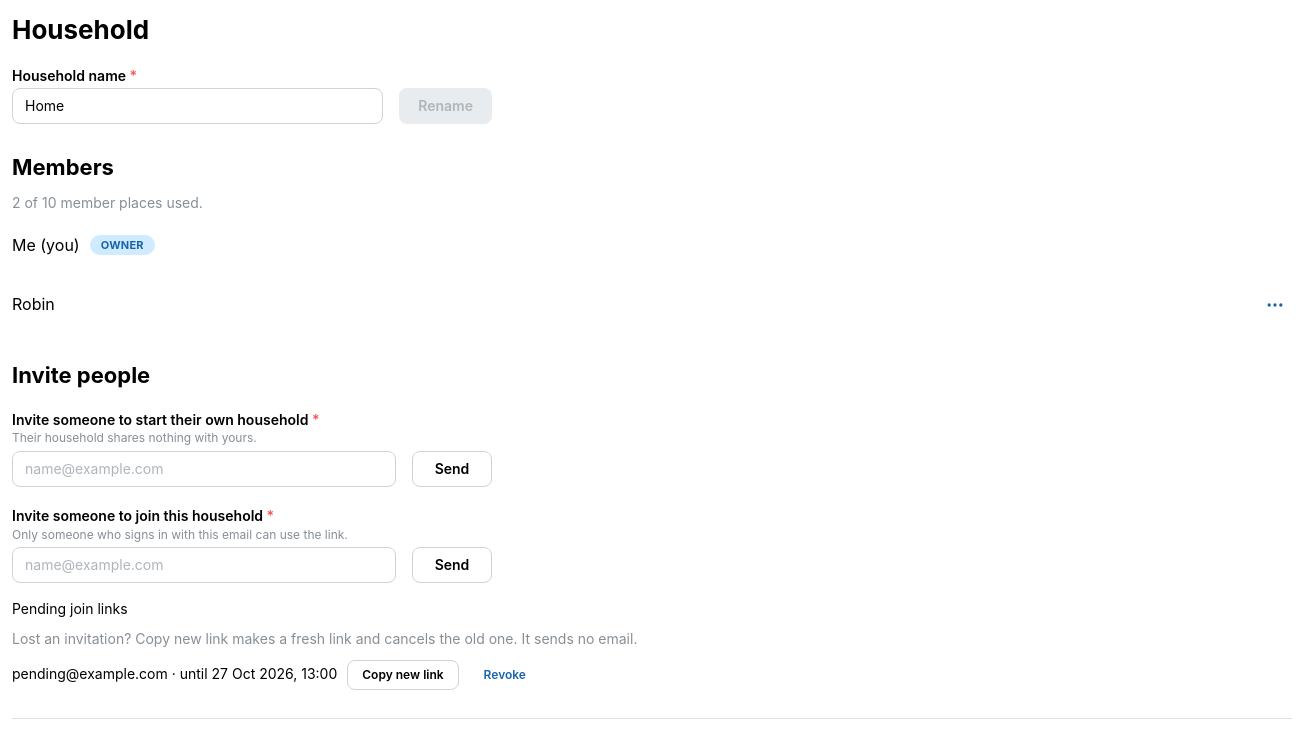
household settings section › gives an owner rename, make owner, join links and revoke
Expected: the text "Robin" is shown, [12, 292, 55, 317]
Replace the text in the field labelled "Household name *" with "New name". click: {"x": 198, "y": 106}
box: [12, 88, 383, 124]
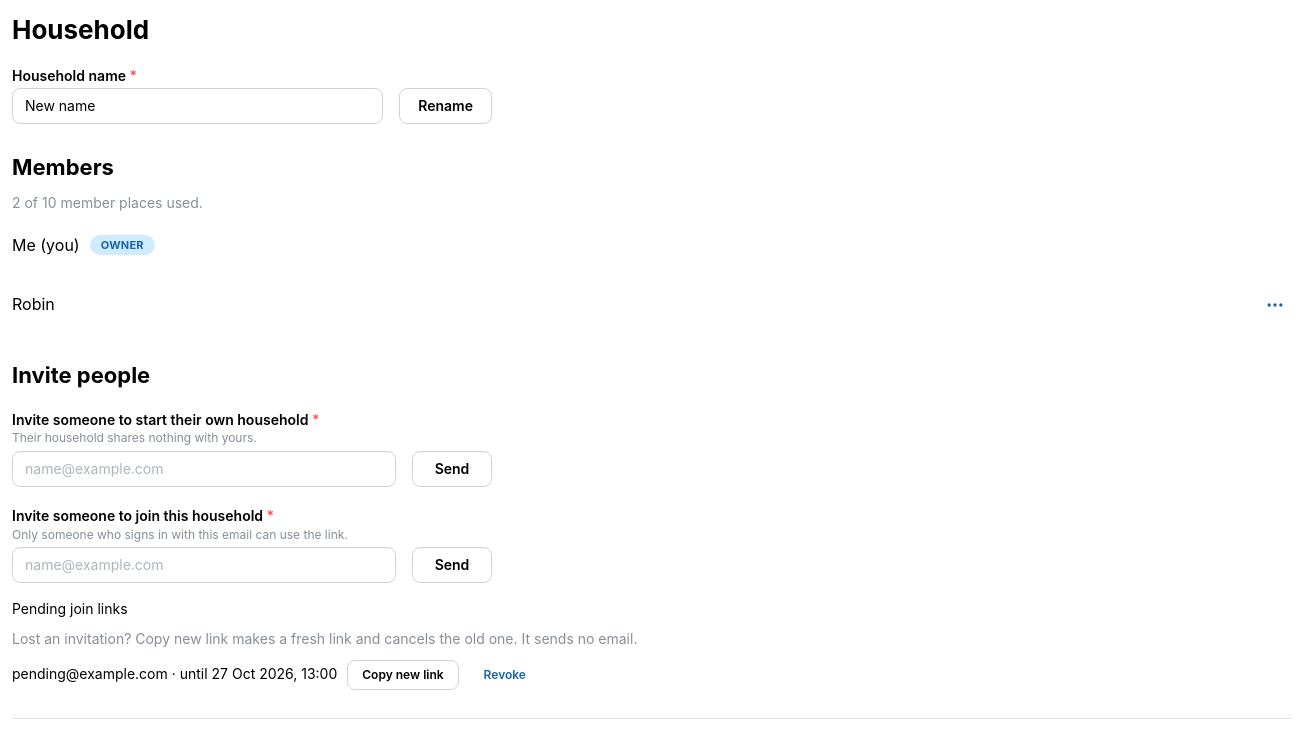
Click the button "Rename". click: {"x": 446, "y": 106}
box: [399, 88, 492, 124]
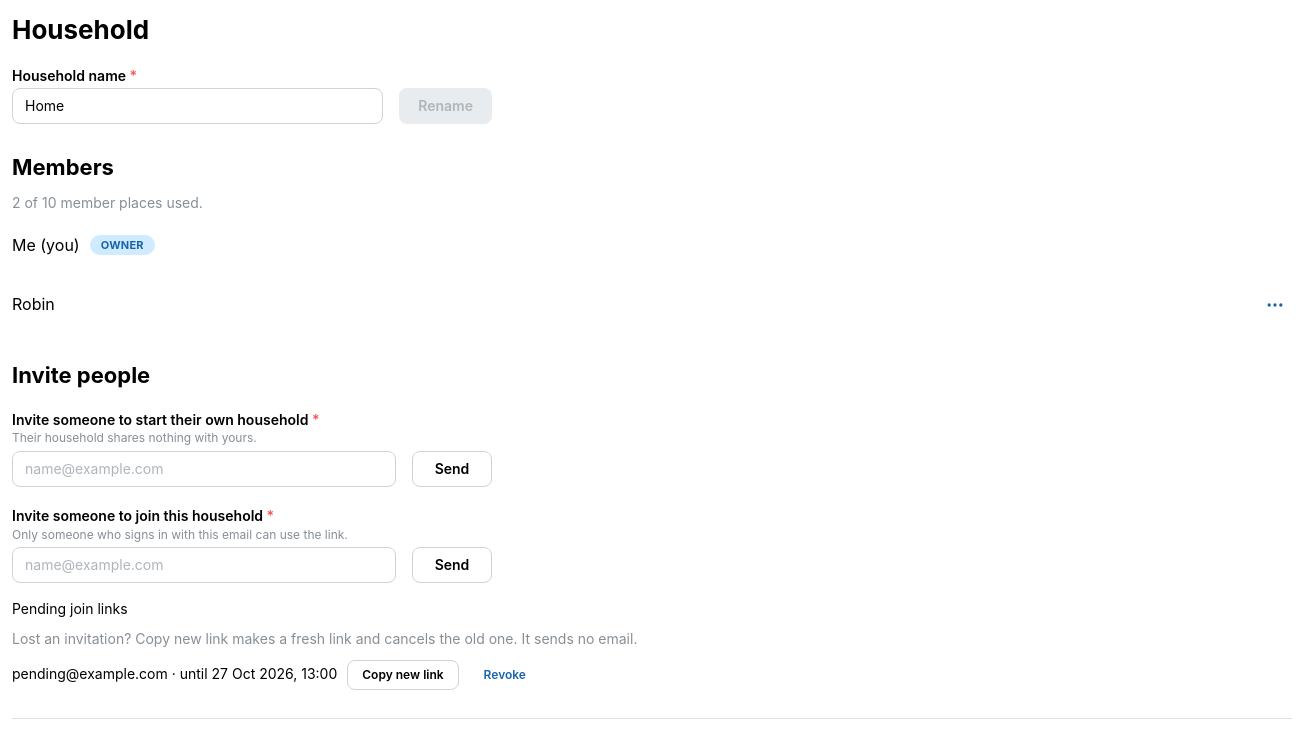
Click the button named "Actions for Robin". click: {"x": 1275, "y": 305}
box: [1258, 288, 1292, 322]
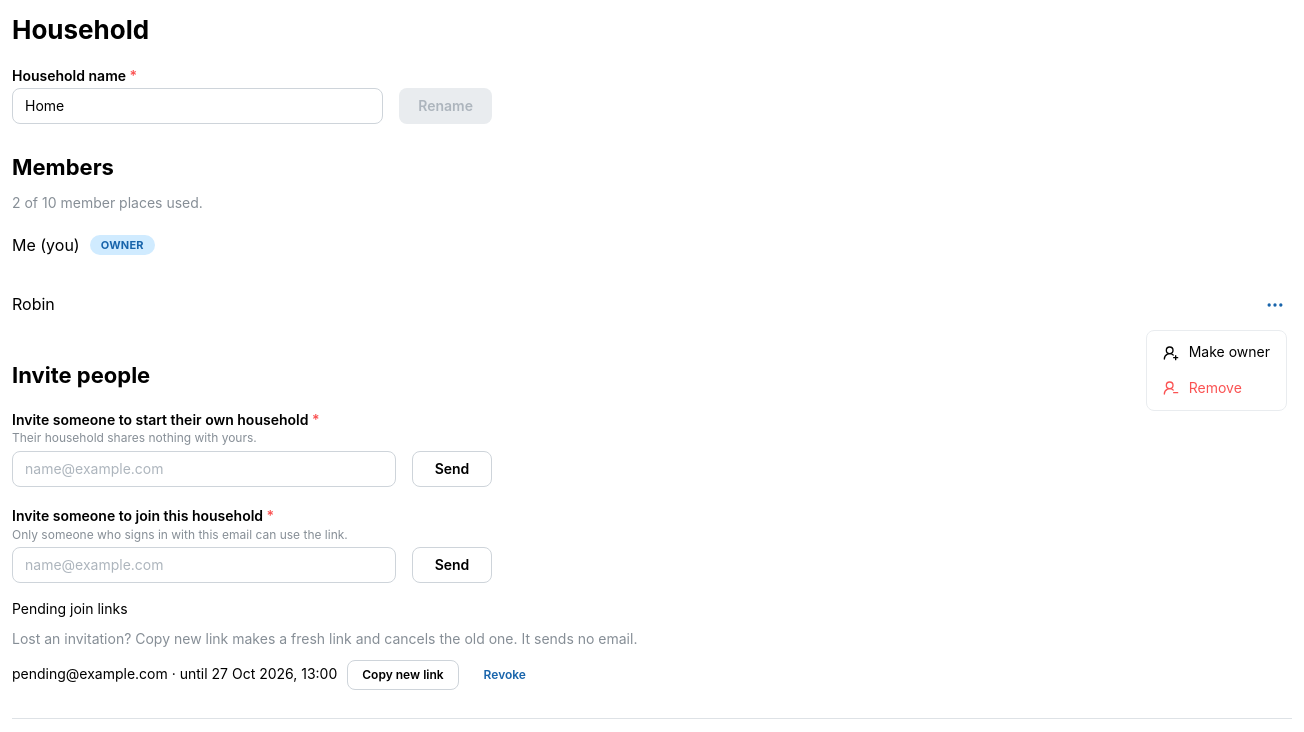
Click the menu item "Make owner". click: {"x": 1216, "y": 353}
box: [1151, 335, 1282, 370]
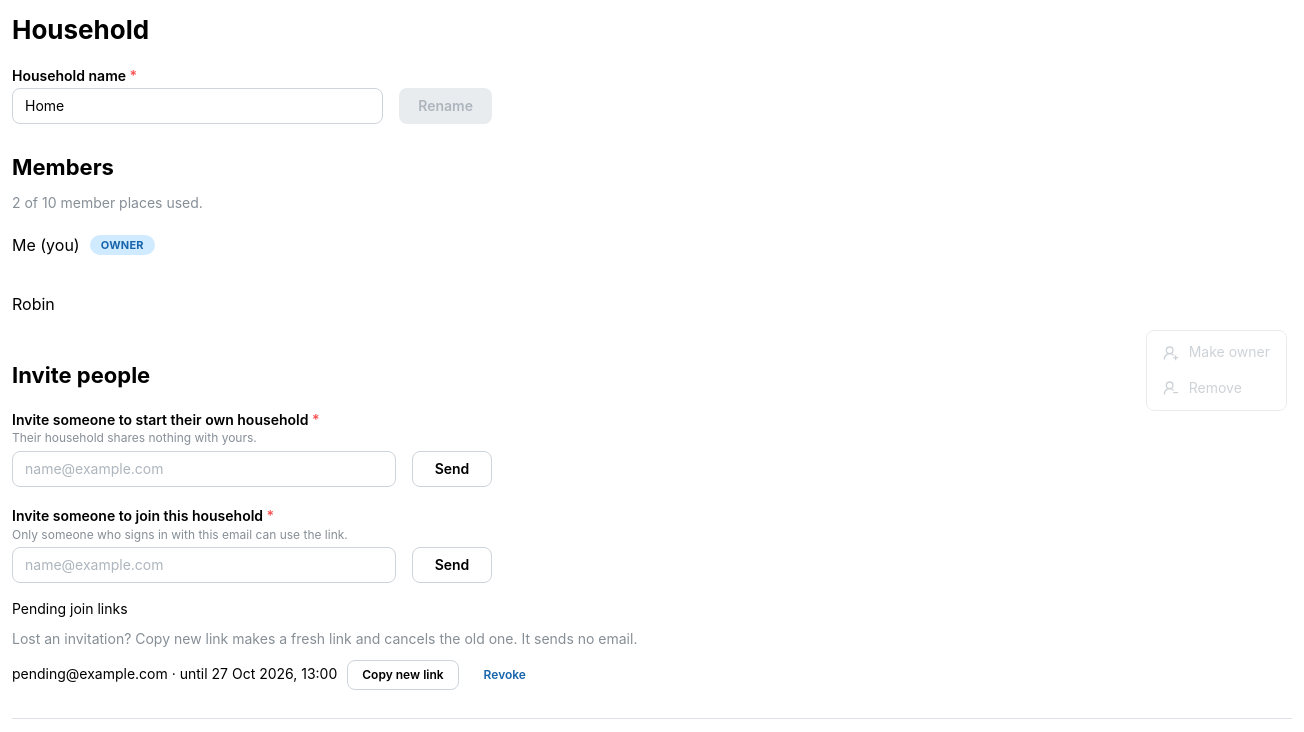
Click the button "Revoke". click: {"x": 505, "y": 674}
box: [469, 660, 541, 690]
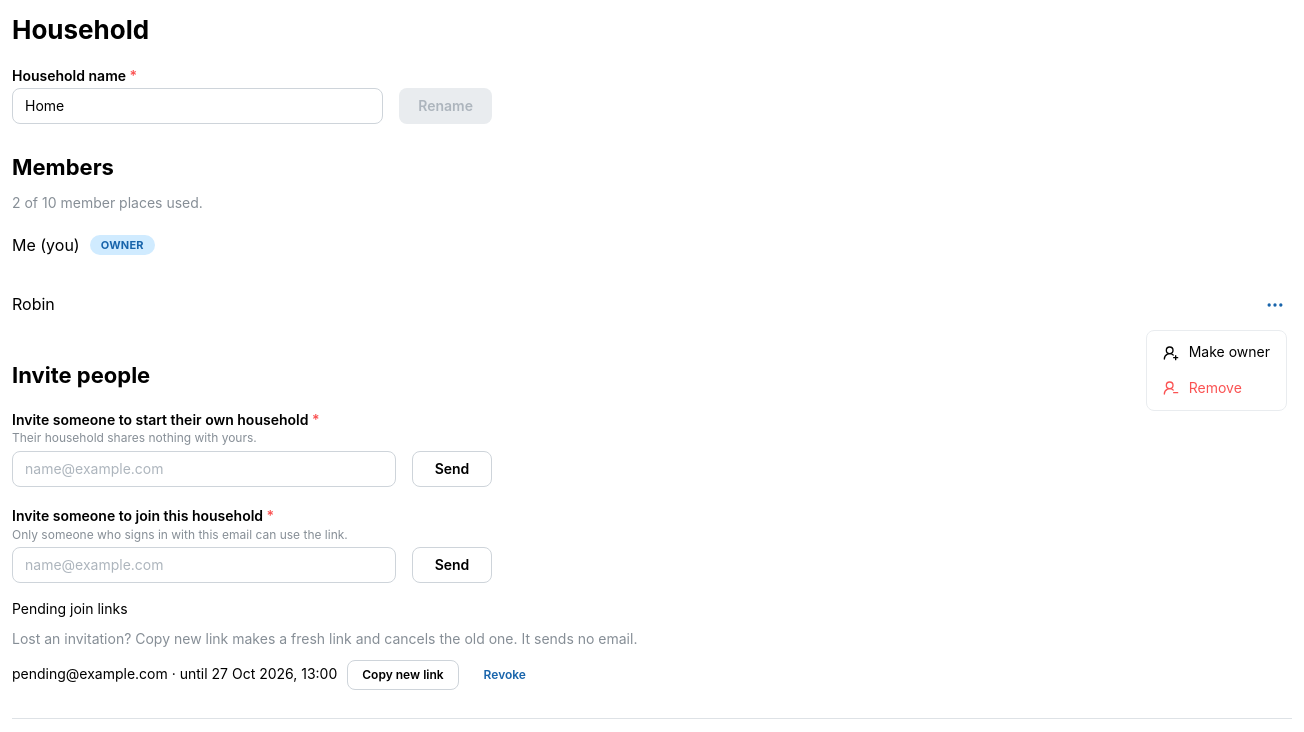
Click the button "Copy new link". click: {"x": 403, "y": 674}
box: [347, 660, 459, 690]
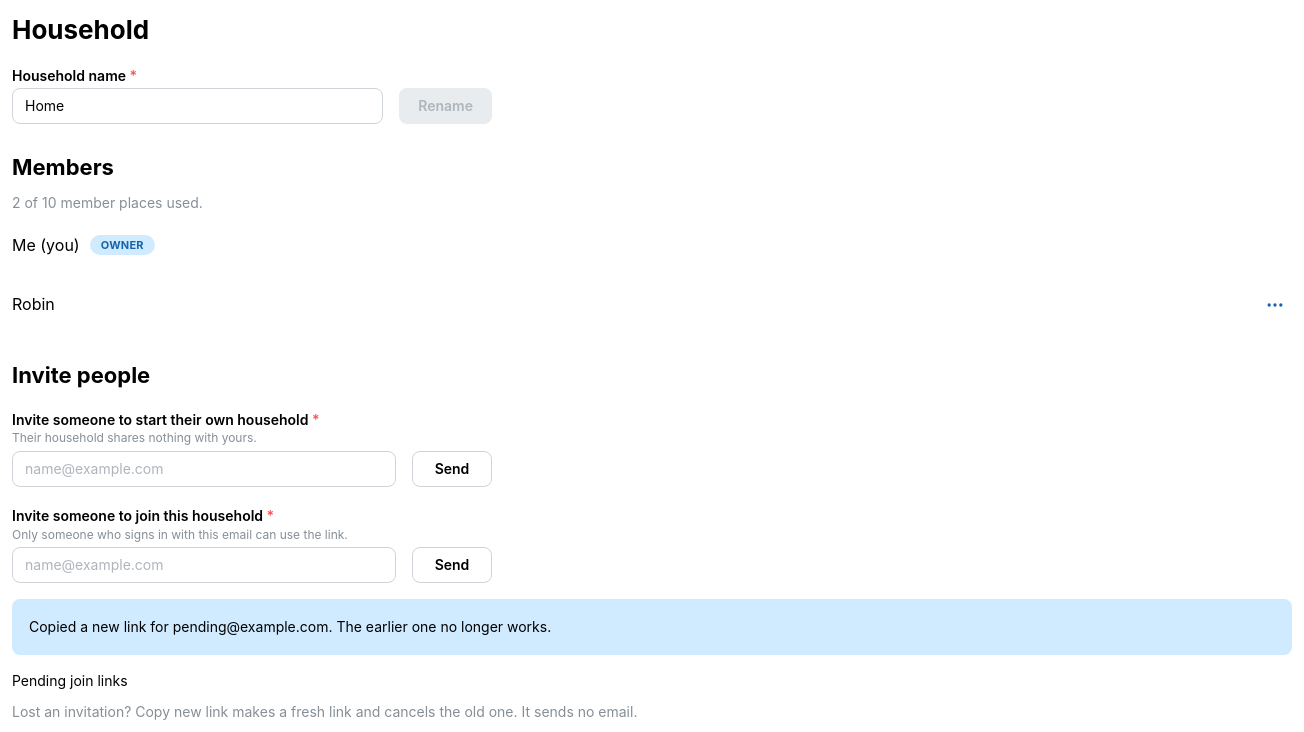
Expected: the text "Copied a new link for pending@example.com" is shown, [29, 618, 551, 635]
